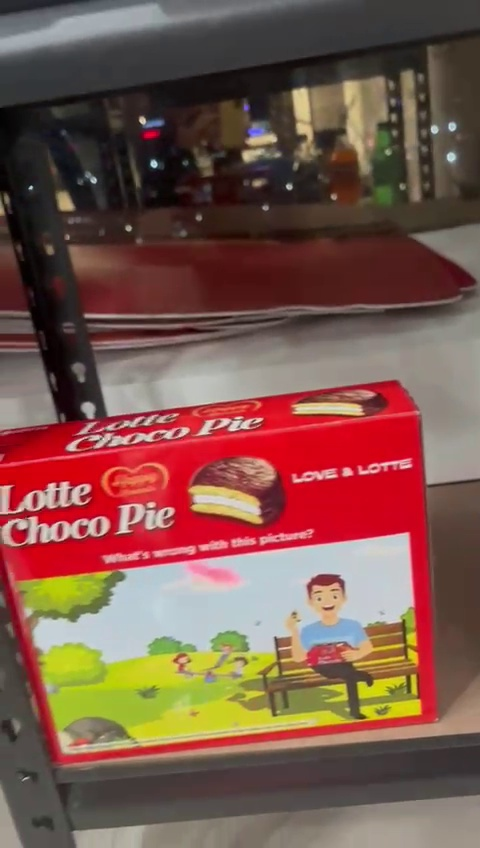Lotte Chocopie: (4, 415, 436, 745)
